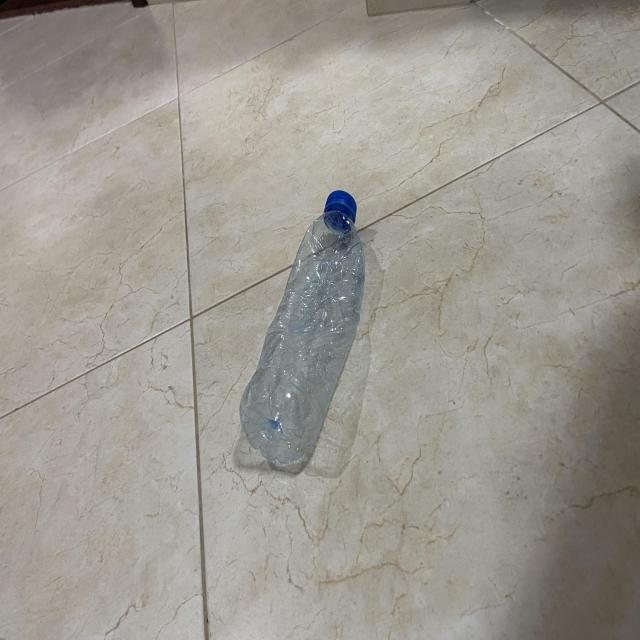plastic: (238, 185, 366, 471)
